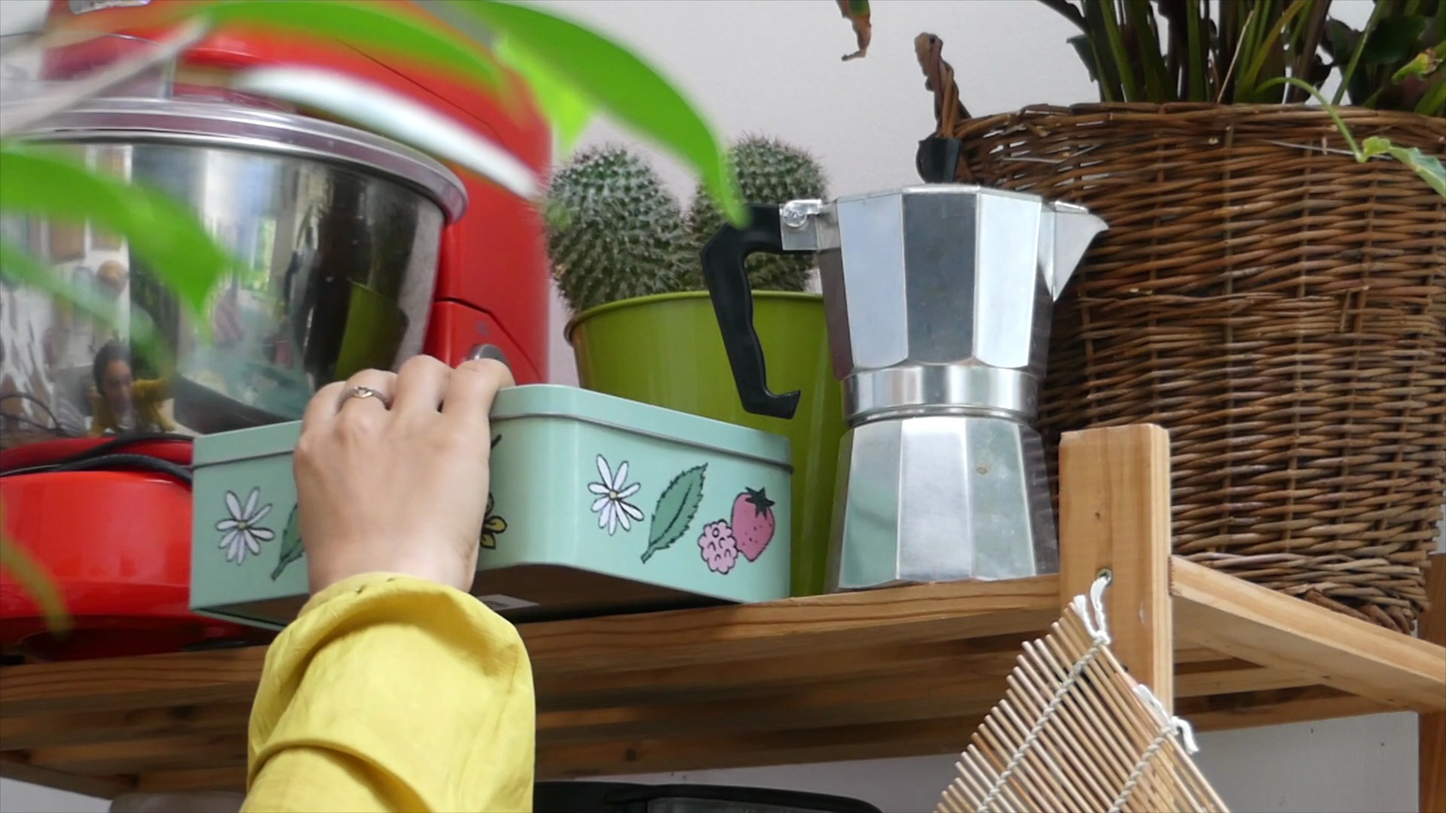dates_box: (745, 185, 1051, 404), (713, 185, 983, 410)
electronics: (427, 152, 1134, 813), (942, 0, 1446, 813), (0, 103, 430, 813), (1, 121, 302, 813), (817, 392, 1191, 813), (0, 399, 275, 813)
perfume_bottle: (0, 0, 644, 513), (715, 187, 852, 426)
watch: (104, 91, 737, 813), (0, 94, 532, 813), (835, 0, 1374, 578), (951, 256, 1445, 813), (797, 0, 1271, 481), (883, 587, 1283, 813), (908, 595, 1195, 813), (933, 643, 1275, 813), (891, 748, 1055, 813)
